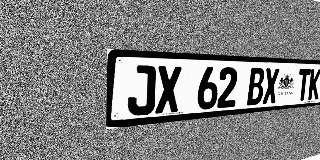2: (217, 67, 238, 108)
6: (197, 67, 219, 110)
B: (247, 68, 265, 106)
J: (127, 65, 156, 116)
K: (308, 69, 320, 100)
T: (296, 69, 311, 101)
X: (155, 66, 181, 114), (262, 68, 279, 104)
